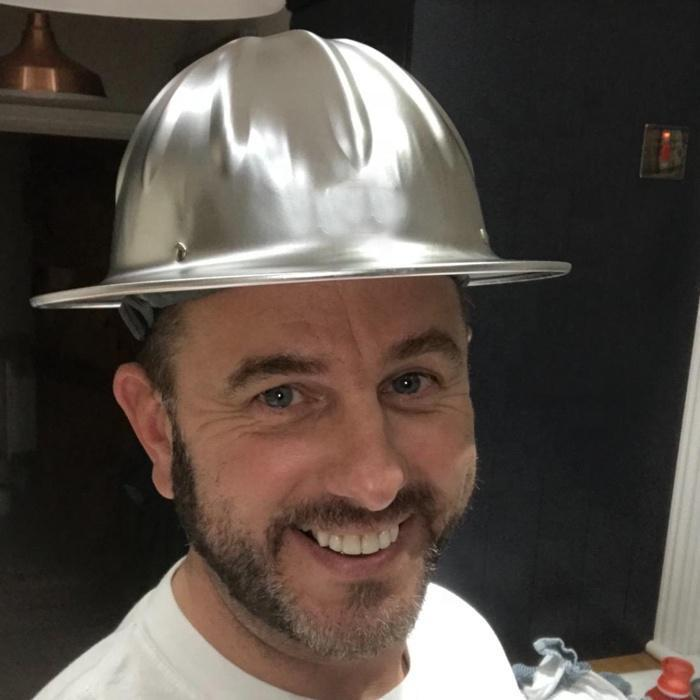helmet: (31, 29, 570, 310)
